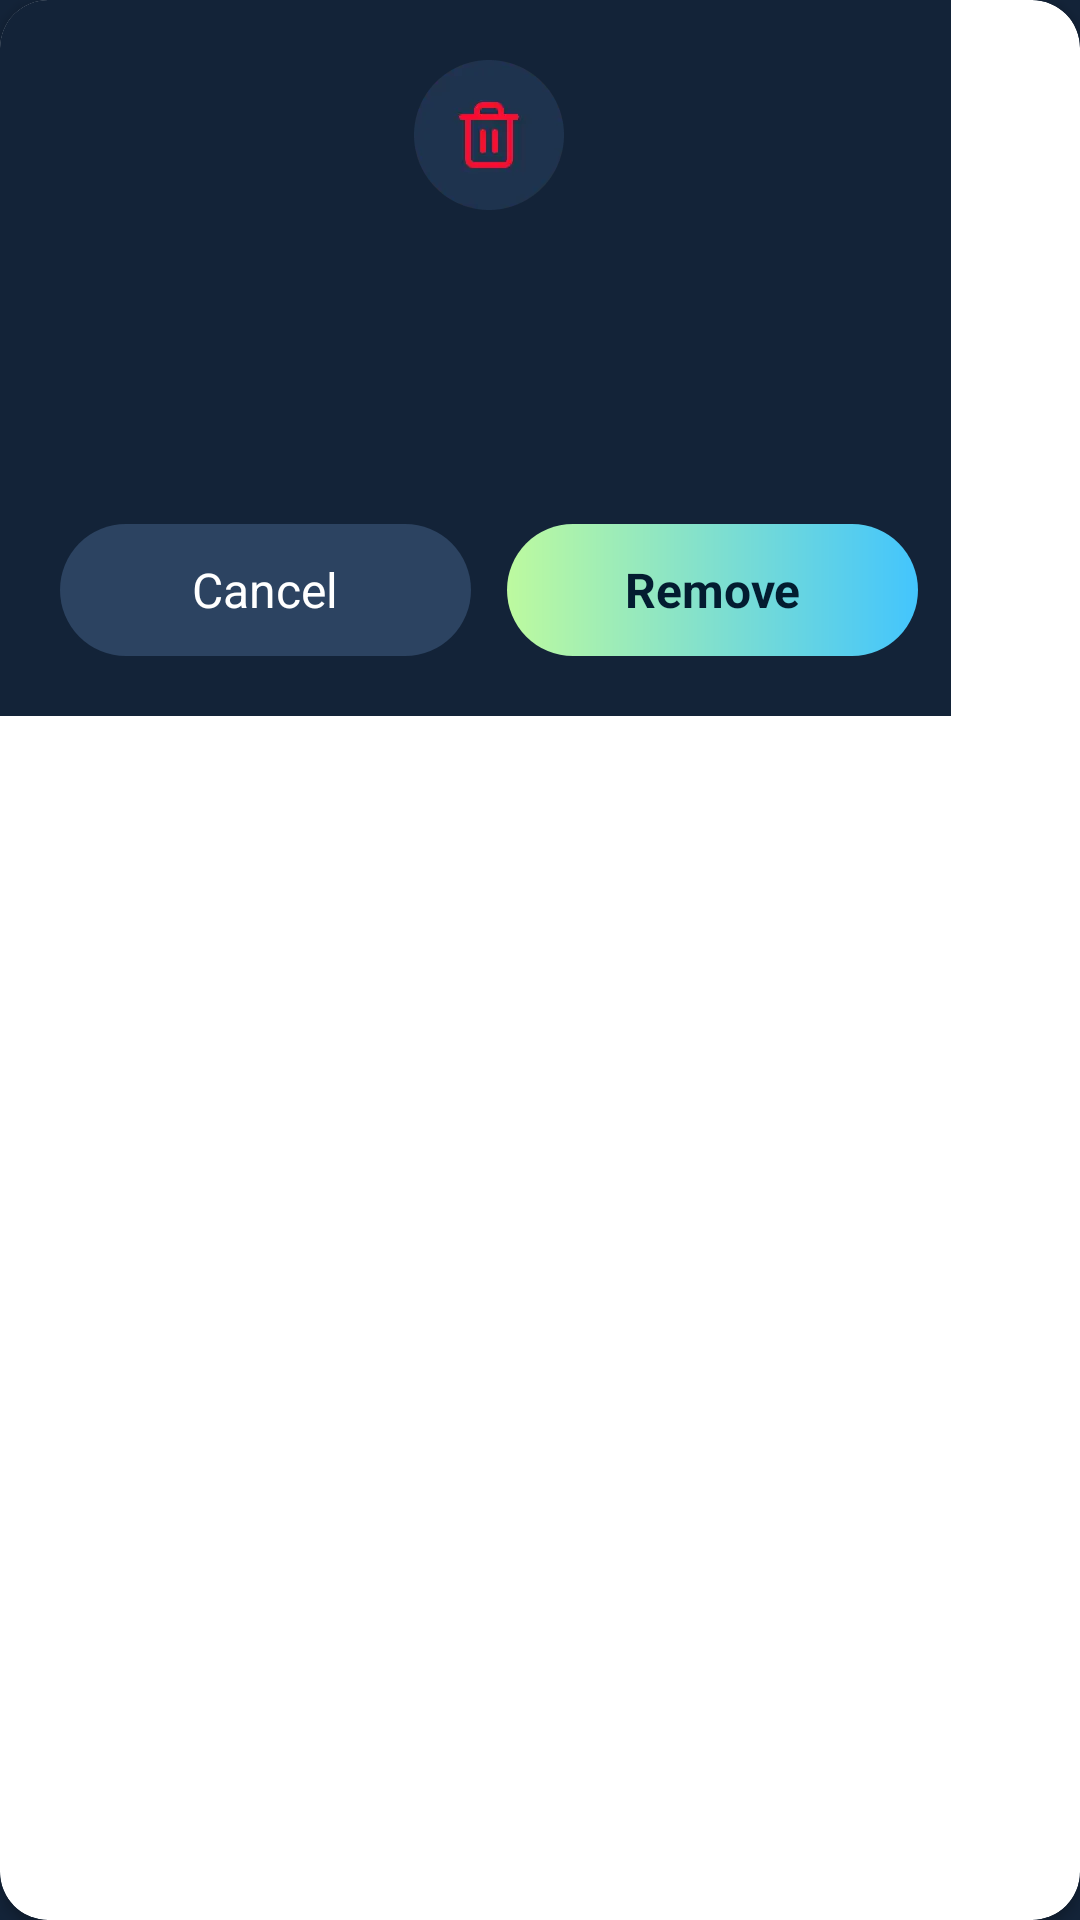

Point at icon controls on the screen. Image size 1080px×1920px, points as [x,y].
delete tip: [489,135]
